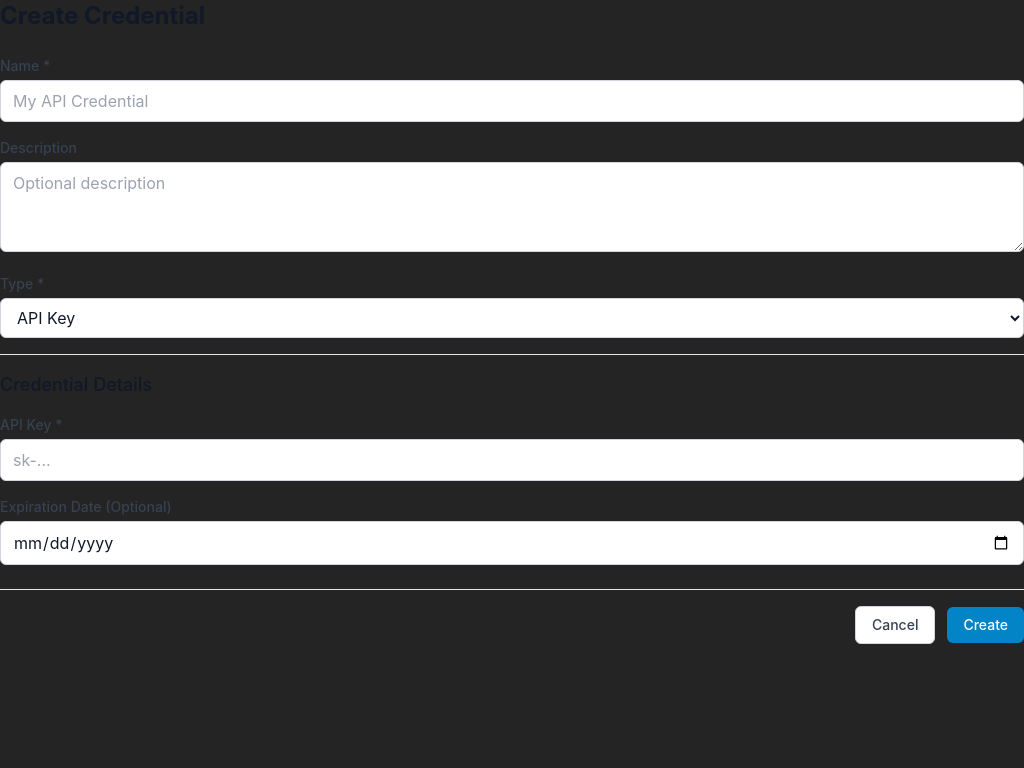
Test case: CredentialForm › Create mode › shows OAuth2 fields when type is oauth2
Select "OAuth2" in the dropdown labelled "Type *". click: (512, 318)
box: [0, 298, 1023, 338]
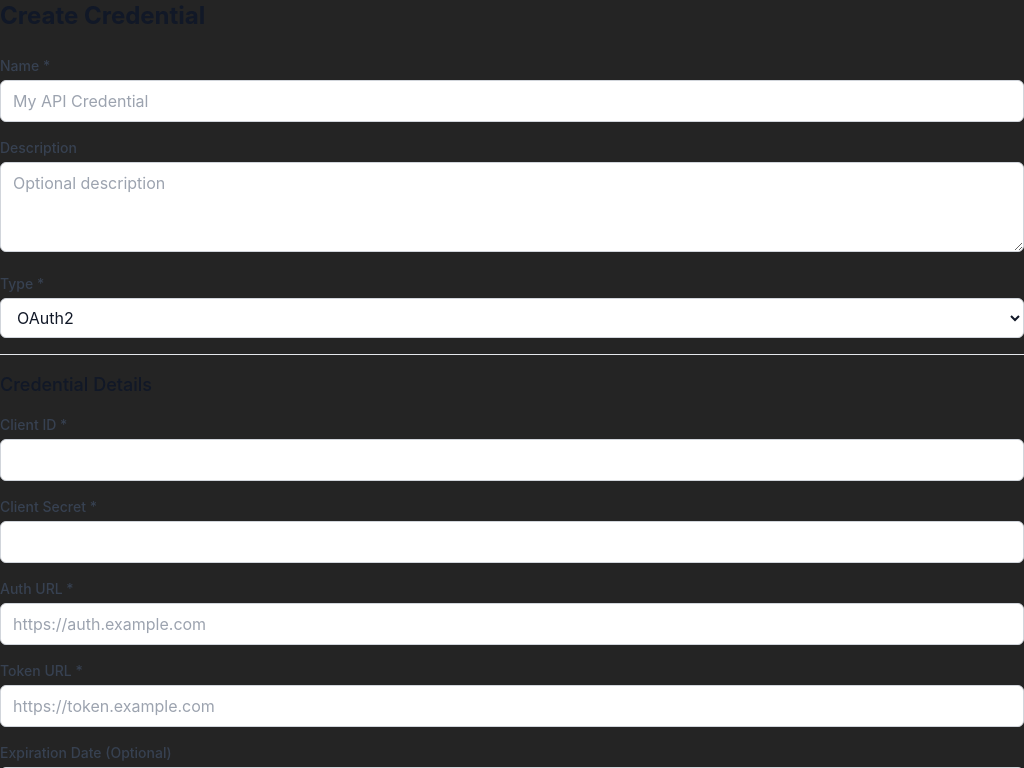
Expected: the field labelled "Client ID *" is shown, [0, 439, 1023, 481]
Expected: the password field labelled "Client Secret *" is shown, [0, 521, 1023, 563]
Expected: the field labelled "Auth URL *" is shown, [0, 603, 1023, 645]
